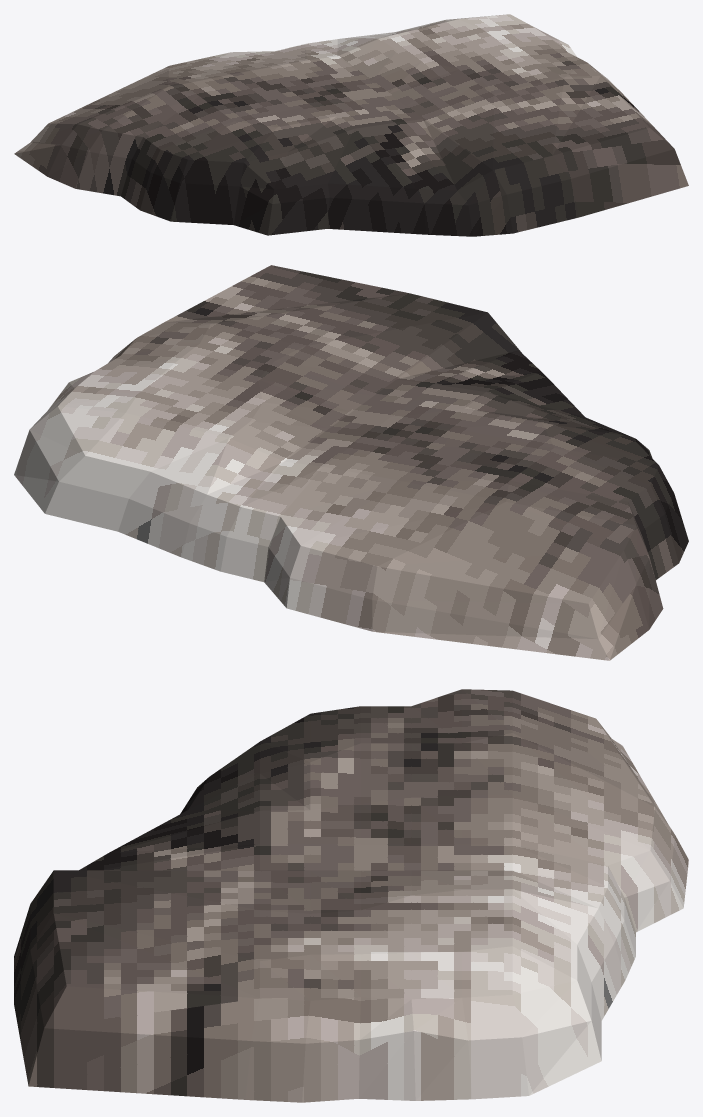
File: Rock_316x02.gltf
3 renders of one model, top to bottom at view 1: azimuth 30°, elevation 25°; view 2: azimuth 150°, elevation 25°; view 3: azimuth 270°, elevation 25°, orthographic. The views are drawn at different scales.
Visible parts, largest first — view 1: Rock_316x02; view 2: Rock_316x02; view 3: Rock_316x02.
Boxes of the visible parts, x1,y1,x2,y2 form: Rock_316x02: (14,14,688,236); Rock_316x02: (14,265,688,660); Rock_316x02: (14,689,688,1102).
Size of the model in its own units: 5.84 by 0.7393 by 4.67.
Materials: 1 (1 with a texture image).
